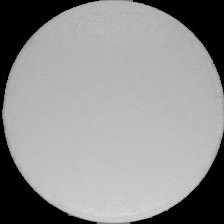0185-4350: (0, 0, 224, 224)
